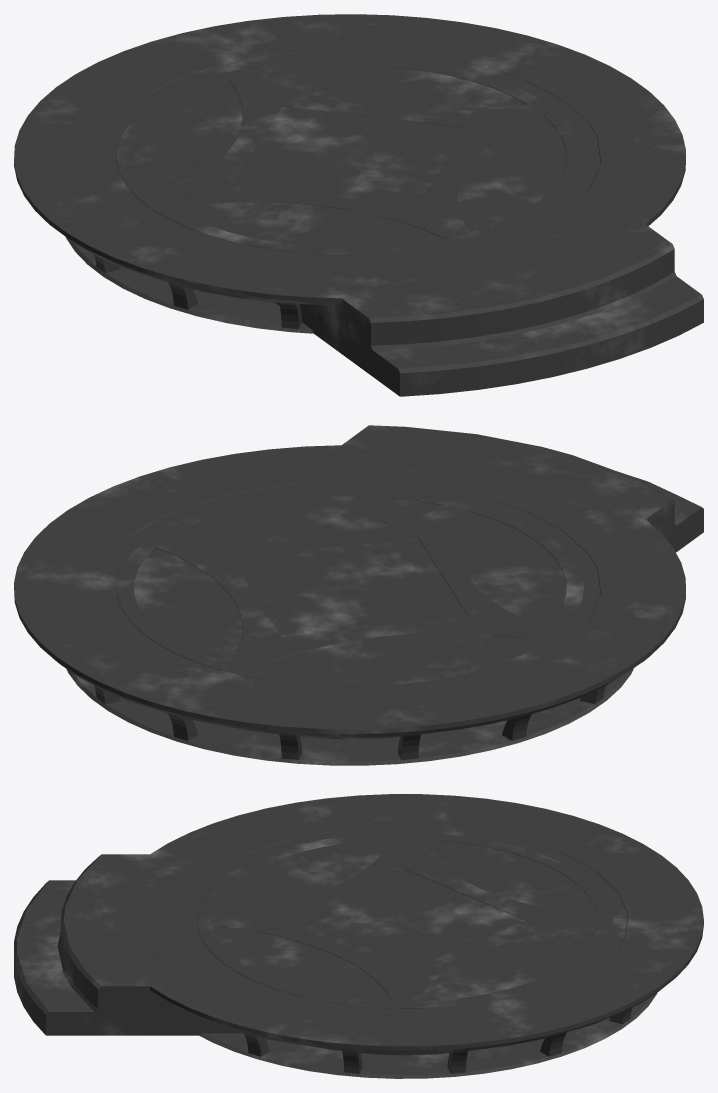
Rendered from Final_Platform comms.glb.
3 renders of one model, top to bottom at view 1: azimuth 30°, elevation 25°; view 2: azimuth 150°, elevation 25°; view 3: azimuth 270°, elevation 25°, orthographic. The views are drawn at different scales.
Parts seen in each view (by area): view 1: Platform comms; view 2: Platform comms; view 3: Platform comms.
Boxes of the visible parts, x1,y1,x2,y2 form: Platform comms: (14,14,703,396); Platform comms: (14,425,703,765); Platform comms: (14,794,703,1078).
Size of the model in its own units: 22.12 by 2.02 by 25.55.
Materials: 1 (1 with a texture image).
